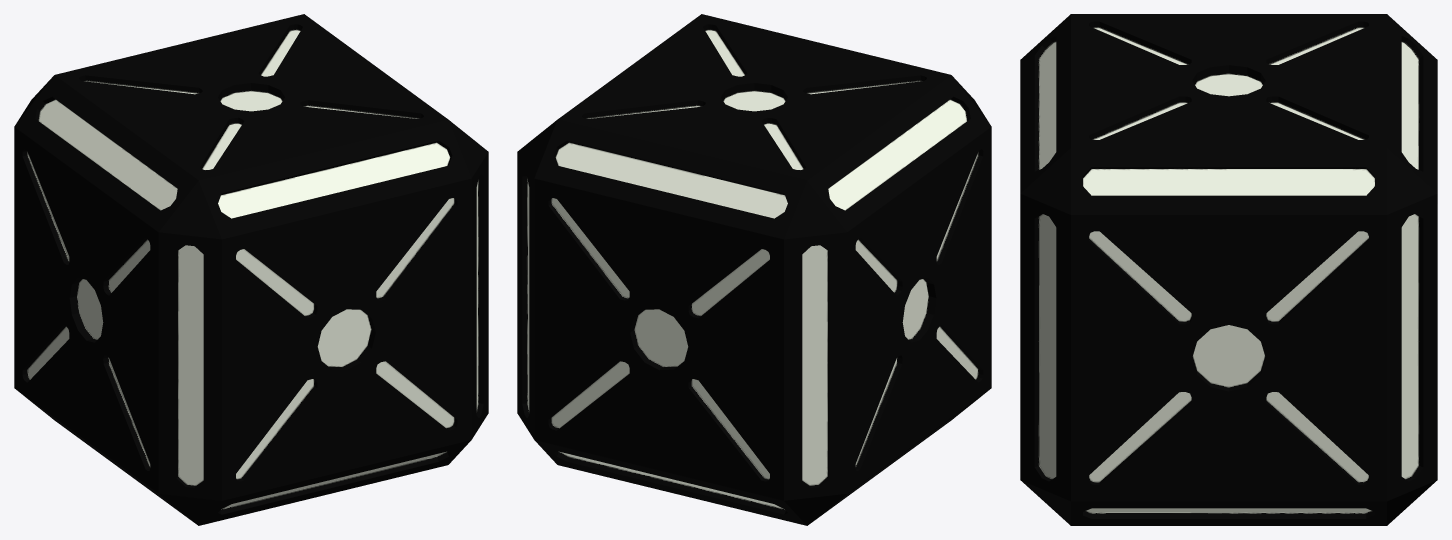
Rendered from cube_rework.fbx.
3 views of the same model, side by side, from view 1: azimuth 30°, elevation 25°; view 2: azimuth 150°, elevation 25°; view 3: azimuth 270°, elevation 25° (orthographic). The views are drawn at different scales.
Visible parts, largest first — view 1: Cube.001; view 2: Cube.001; view 3: Cube.001.
Boxes of the visible parts, <box> form: Cube.001: <box>14,14,488,525</box>; Cube.001: <box>517,14,991,525</box>; Cube.001: <box>1020,14,1437,525</box>.
Size of the model in its own units: 100 by 100 by 100.
Materials: 1 (1 with a texture image).
